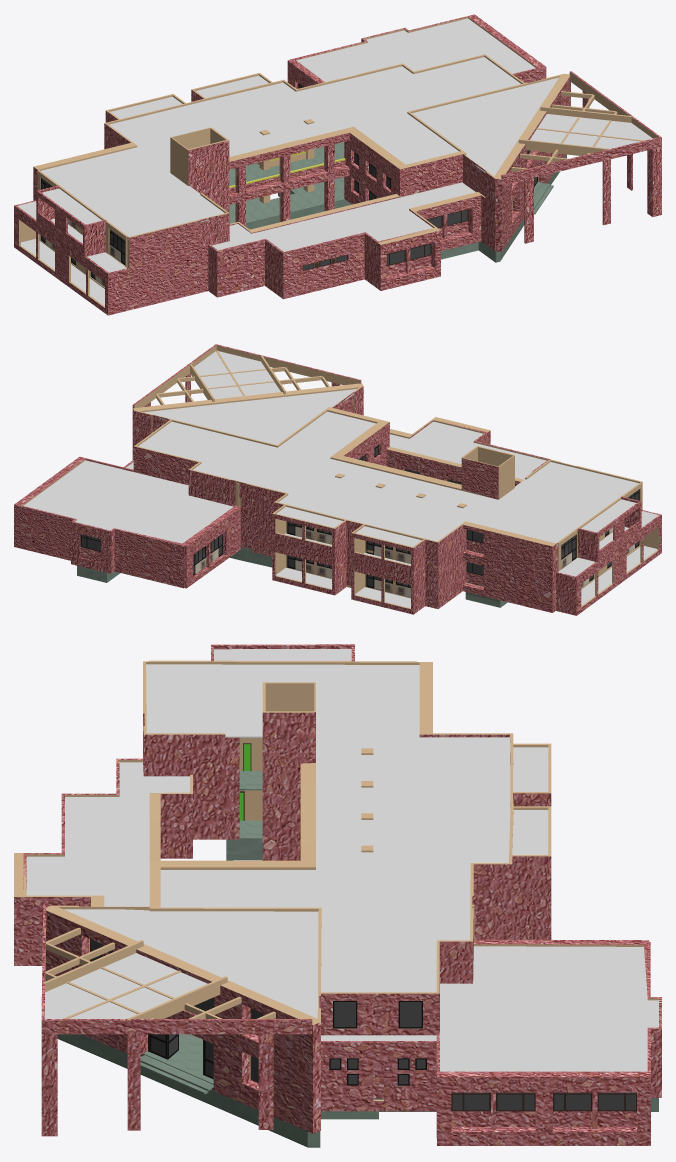
The model's file is TPO1.fbx.
The picture shows the model from 3 angles, top to bottom: view 1: azimuth 30°, elevation 25°; view 2: azimuth 150°, elevation 25°; view 3: azimuth 270°, elevation 25°; orthographic projection. The views are drawn at different scales.
Parts seen in each view (by area): view 1: Vert.008, Vert.003, Vert, Vert.001, Vert.012, Vert.005, Vert.002, Cube.001, Vert.013, guesthouse_leftsidewindow.007, Vert.018, Cube (+5 smaller); view 2: Vert.008, Vert.003, Vert, Vert.005, Vert.001, Vert.002, Vert.018, Vert.012, guesthouse_rightside3.009, guesthouse_rightside3.007, Vert.010, guesthouse_leftsidewindow.010 (+2 smaller); view 3: Vert.003, Vert.008, Vert, Vert.001, Vert.024, Vert.012, Vert.005, guesthouse_leftsidewindow.008, guesthouse_leftsidewindow.009, Vert.004, Cube, Vert.006 (+6 smaller).
Boxes of the visible parts, box(x1,y1,x2,y2) form: Vert.008: box(14, 14, 570, 315); Vert.003: box(37, 57, 558, 239); Vert: box(17, 18, 535, 272); Vert.001: box(501, 71, 661, 185); Vert.012: box(229, 154, 566, 262); Vert.005: box(530, 114, 652, 148); Vert.002: box(36, 185, 106, 256); Cube.001: box(235, 144, 334, 226); Vert.013: box(229, 142, 344, 185); guesthouse_leftsidewindow.007: box(386, 243, 431, 276); Vert.018: box(21, 239, 104, 305); Cube: box(647, 147, 661, 217); Vert.008: box(14, 383, 661, 615); Vert.003: box(138, 389, 641, 546); Vert: box(23, 421, 658, 576); Vert.005: box(194, 351, 280, 399); Vert.001: box(132, 344, 361, 408); Vert.002: box(577, 496, 641, 562); Vert.018: box(276, 546, 657, 608); Vert.012: box(77, 547, 507, 607); guesthouse_rightside3.009: box(366, 541, 410, 597); guesthouse_rightside3.007: box(287, 522, 331, 578); Vert.010: box(156, 376, 329, 404); guesthouse_leftsidewindow.010: box(80, 534, 100, 562); Vert.003: box(64, 649, 548, 1018); Vert.008: box(14, 660, 661, 1145); Vert: box(26, 762, 658, 1071); Vert.001: box(41, 904, 312, 1034); Vert.024: box(321, 1042, 436, 1111); Vert.012: box(57, 820, 658, 1147); Vert.005: box(44, 953, 207, 1018); guesthouse_leftsidewindow.008: box(451, 1092, 535, 1128); guesthouse_leftsidewindow.009: box(553, 1092, 636, 1128); Vert.004: box(224, 737, 474, 942); Cube: box(41, 1034, 57, 1136); Vert.006: box(45, 952, 273, 1129).
Size of the model in its own units: 5930 by 1252 by 4141.
